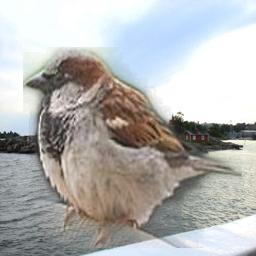Sparrow: (23, 47, 242, 248)
